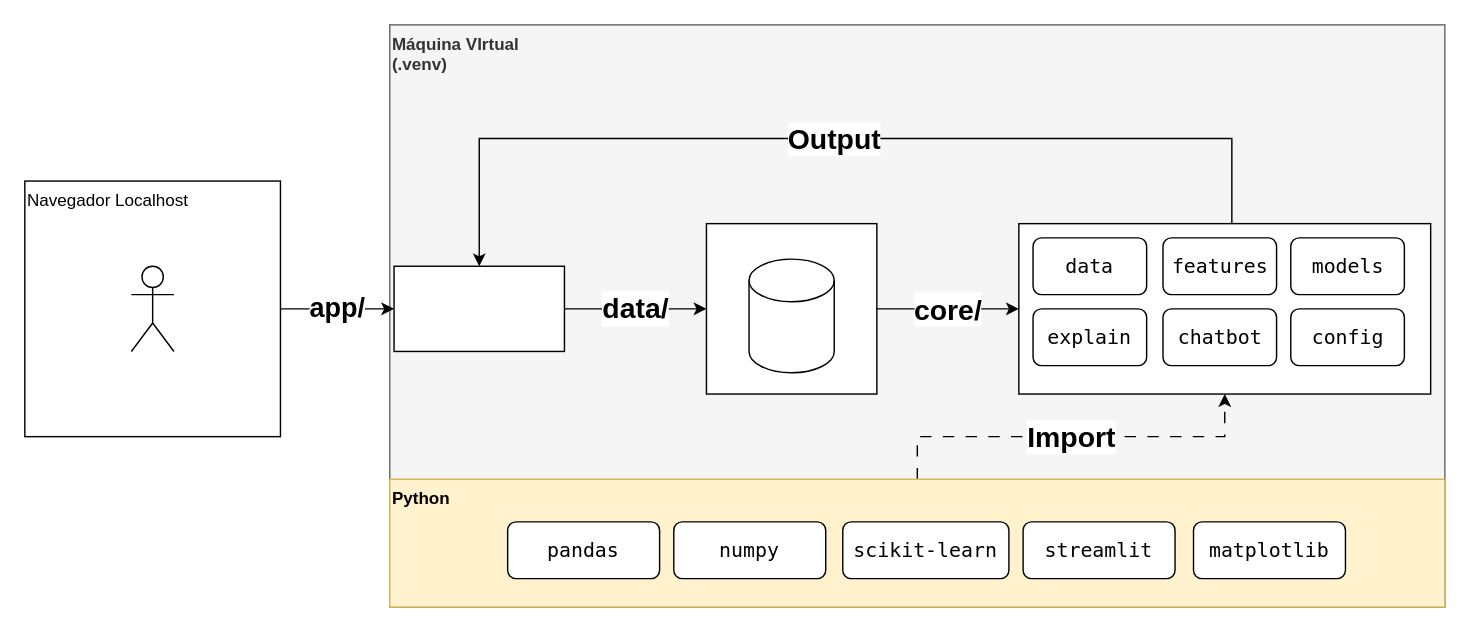
Image size: 1470x632. Some labels were removed from this diagram. The centre of each missing label's shape, as x and y in pixels:
"Streamlit UI" goes at pixel 478 308.
"train.csv" goes at pixel 791 315.
"Usuário" goes at pixel 152 308.
